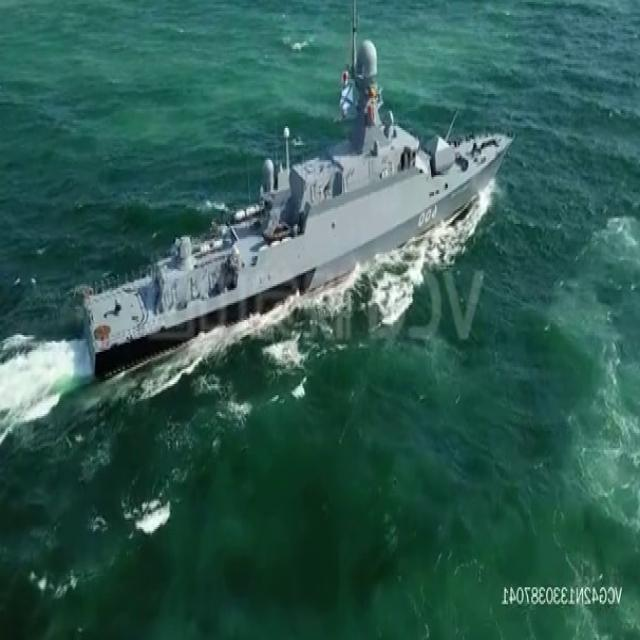navalvessels: (79, 13, 513, 385)
